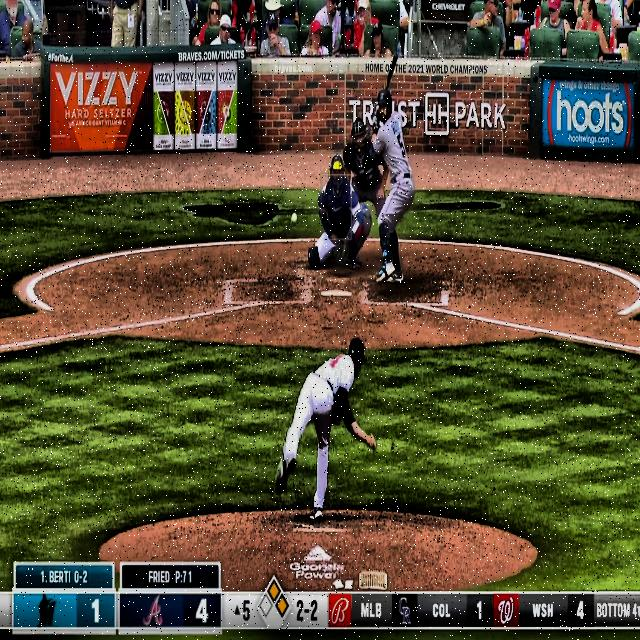baseball: (291, 213, 297, 223)
